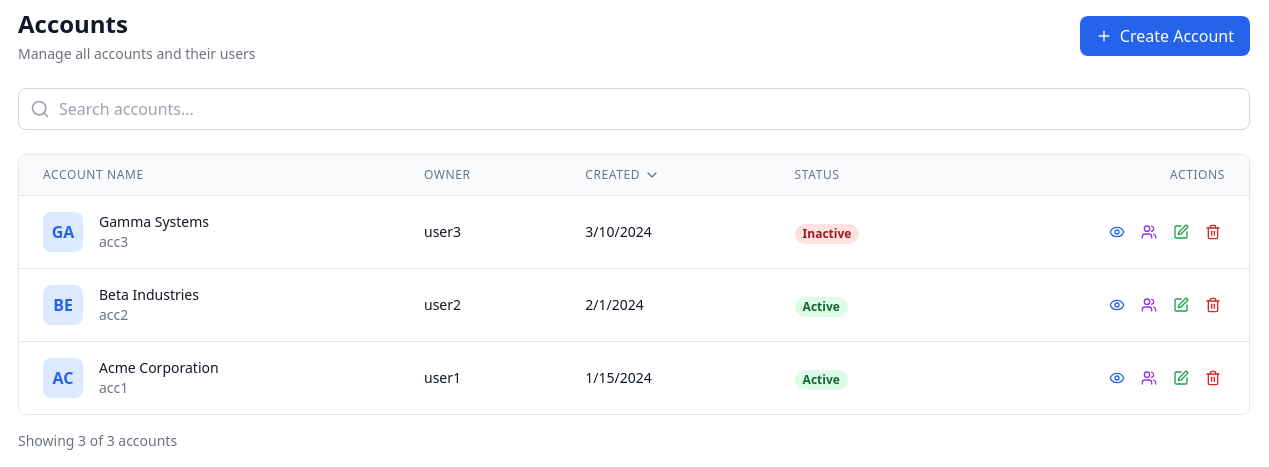
AccountList › should show empty state when no accounts match search
Expected: the text "Acme Corporation" is shown, [99, 358, 219, 378]
# Search for something that doesn't exist
Type "NonExistent" into the field with placeholder "Search accounts..." at [634, 109], box [18, 88, 1250, 130]
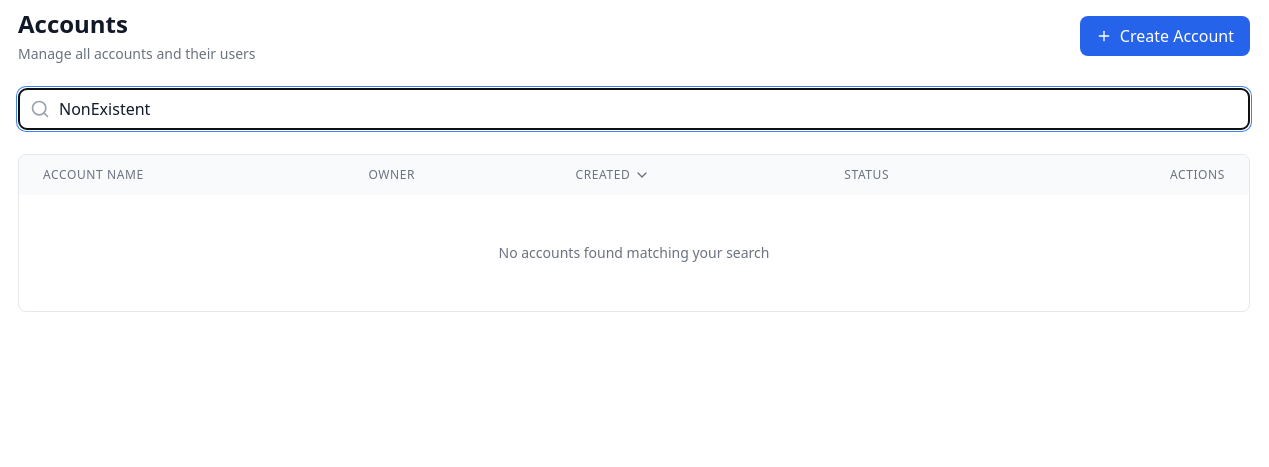
Expected: the text "No accounts found matching your search" is shown, [498, 243, 770, 262]
